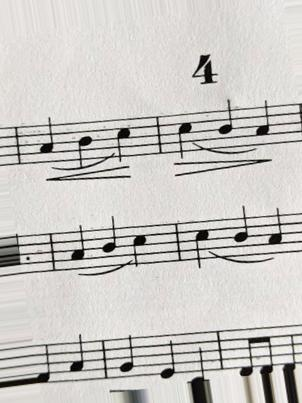note: (65, 220, 93, 279), (111, 334, 143, 383), (188, 215, 214, 270), (229, 204, 255, 258), (98, 214, 122, 269), (264, 205, 288, 260), (212, 97, 236, 151), (63, 332, 88, 383), (251, 97, 276, 147), (111, 115, 135, 166), (127, 220, 150, 273), (34, 113, 56, 166), (170, 109, 194, 157), (157, 332, 181, 379), (73, 118, 96, 166)
